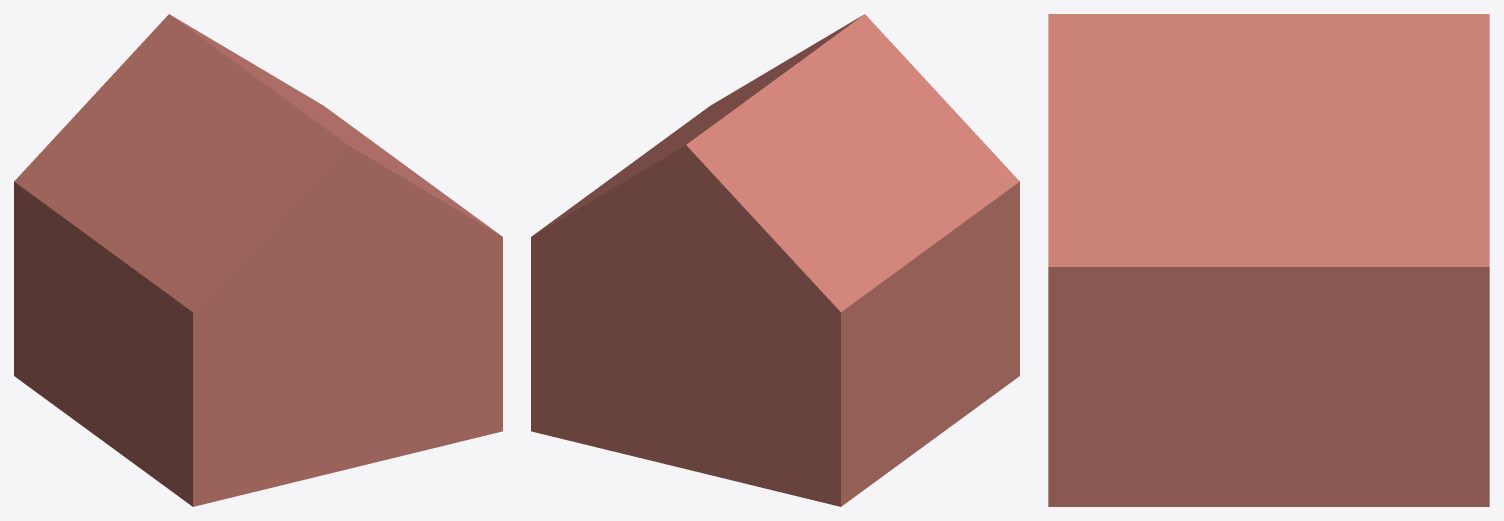
Rendered from barn.glb.
3 renders of one model, left to right at view 1: azimuth 30°, elevation 25°; view 2: azimuth 150°, elevation 25°; view 3: azimuth 270°, elevation 25°, orthographic. The views are drawn at different scales.
Visible parts, largest first — view 1: barn; view 2: barn; view 3: barn.
Part boxes in pixels (<box>): barn: <box>14,14,502,506</box>; barn: <box>531,14,1019,506</box>; barn: <box>1048,14,1489,506</box>.
Size of the model in its own units: 1 by 1 by 1.
